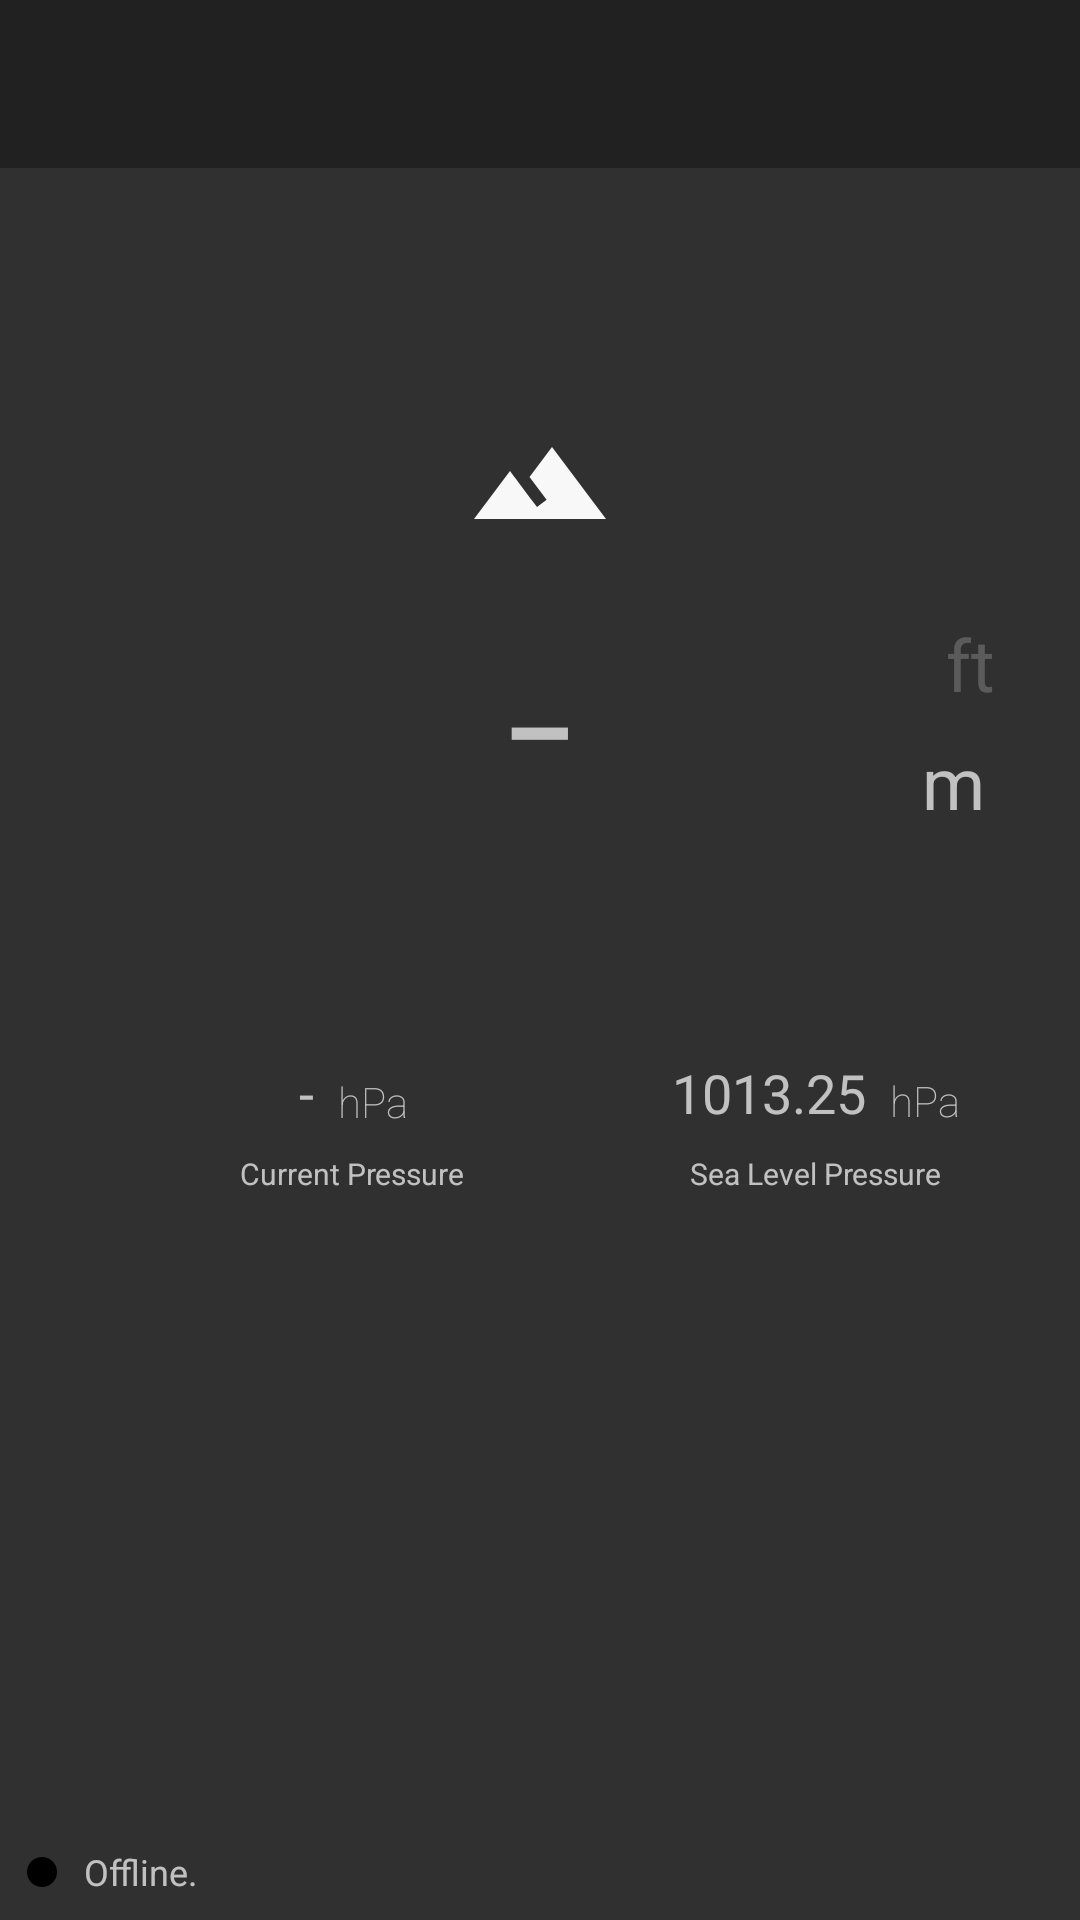

Screen size 1080x1920. Icon name, then its box in pixels as (x1, y1, x2, y2):
landscape: (474, 447, 606, 519)
